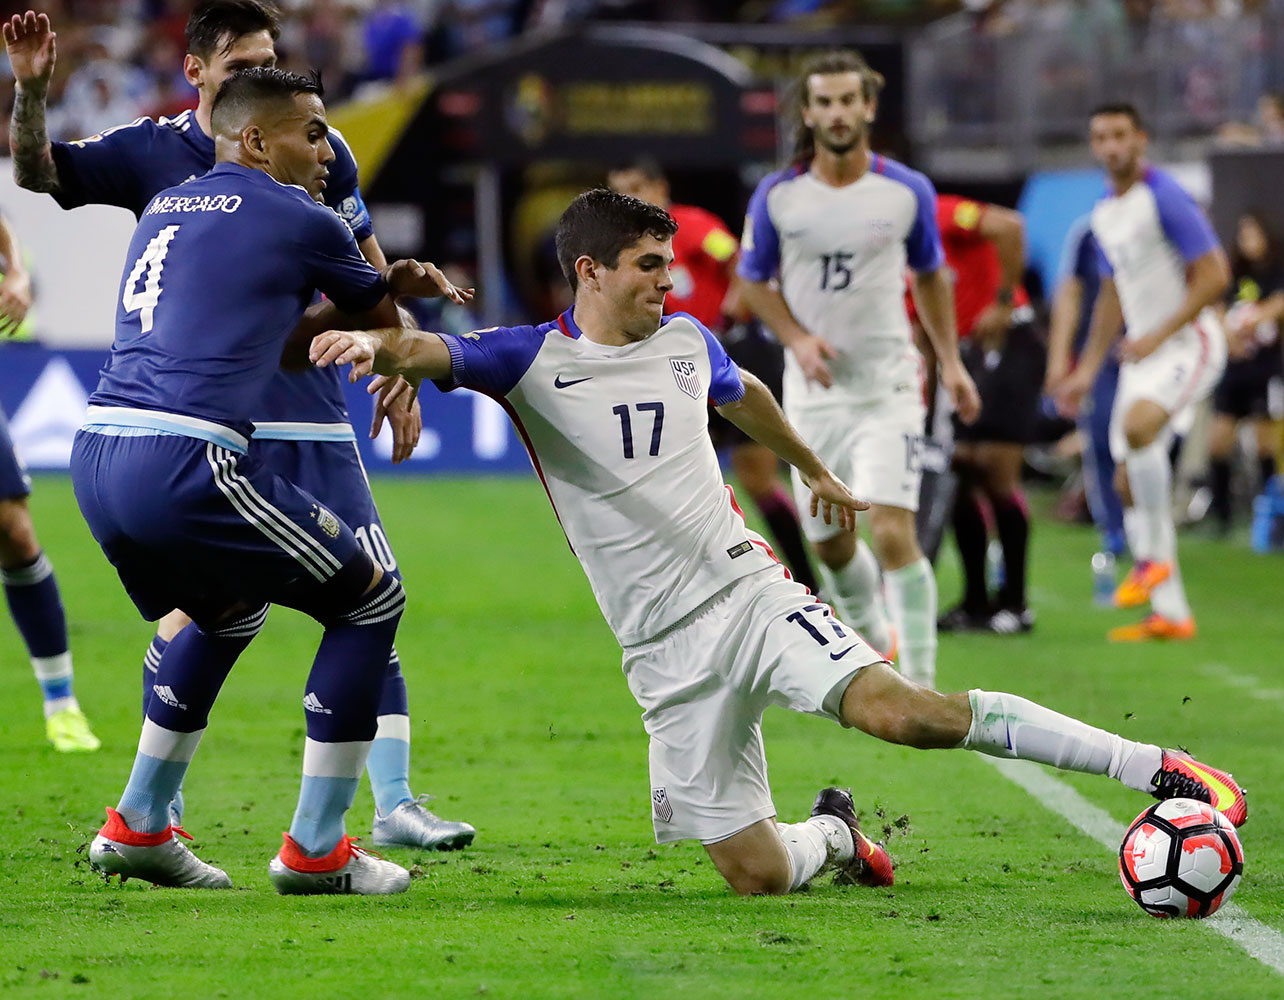soccer player: (305, 184, 1248, 902), (2, 5, 486, 857), (53, 60, 425, 901), (732, 53, 959, 705), (1055, 90, 1243, 653)
soccerball: (1115, 794, 1247, 924)
